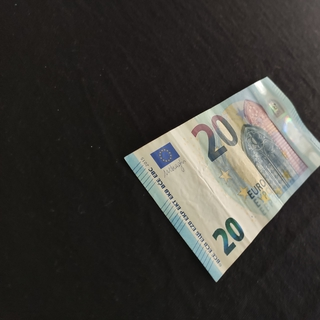20EUROFront: (123, 75, 320, 283)
